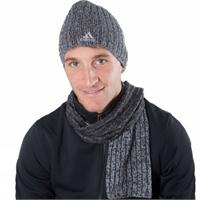hat: (58, 0, 128, 68)
